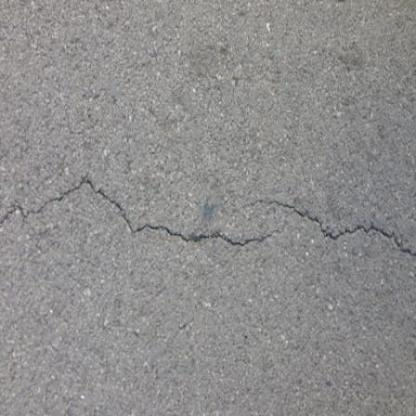Cracks: (1, 179, 416, 298)
